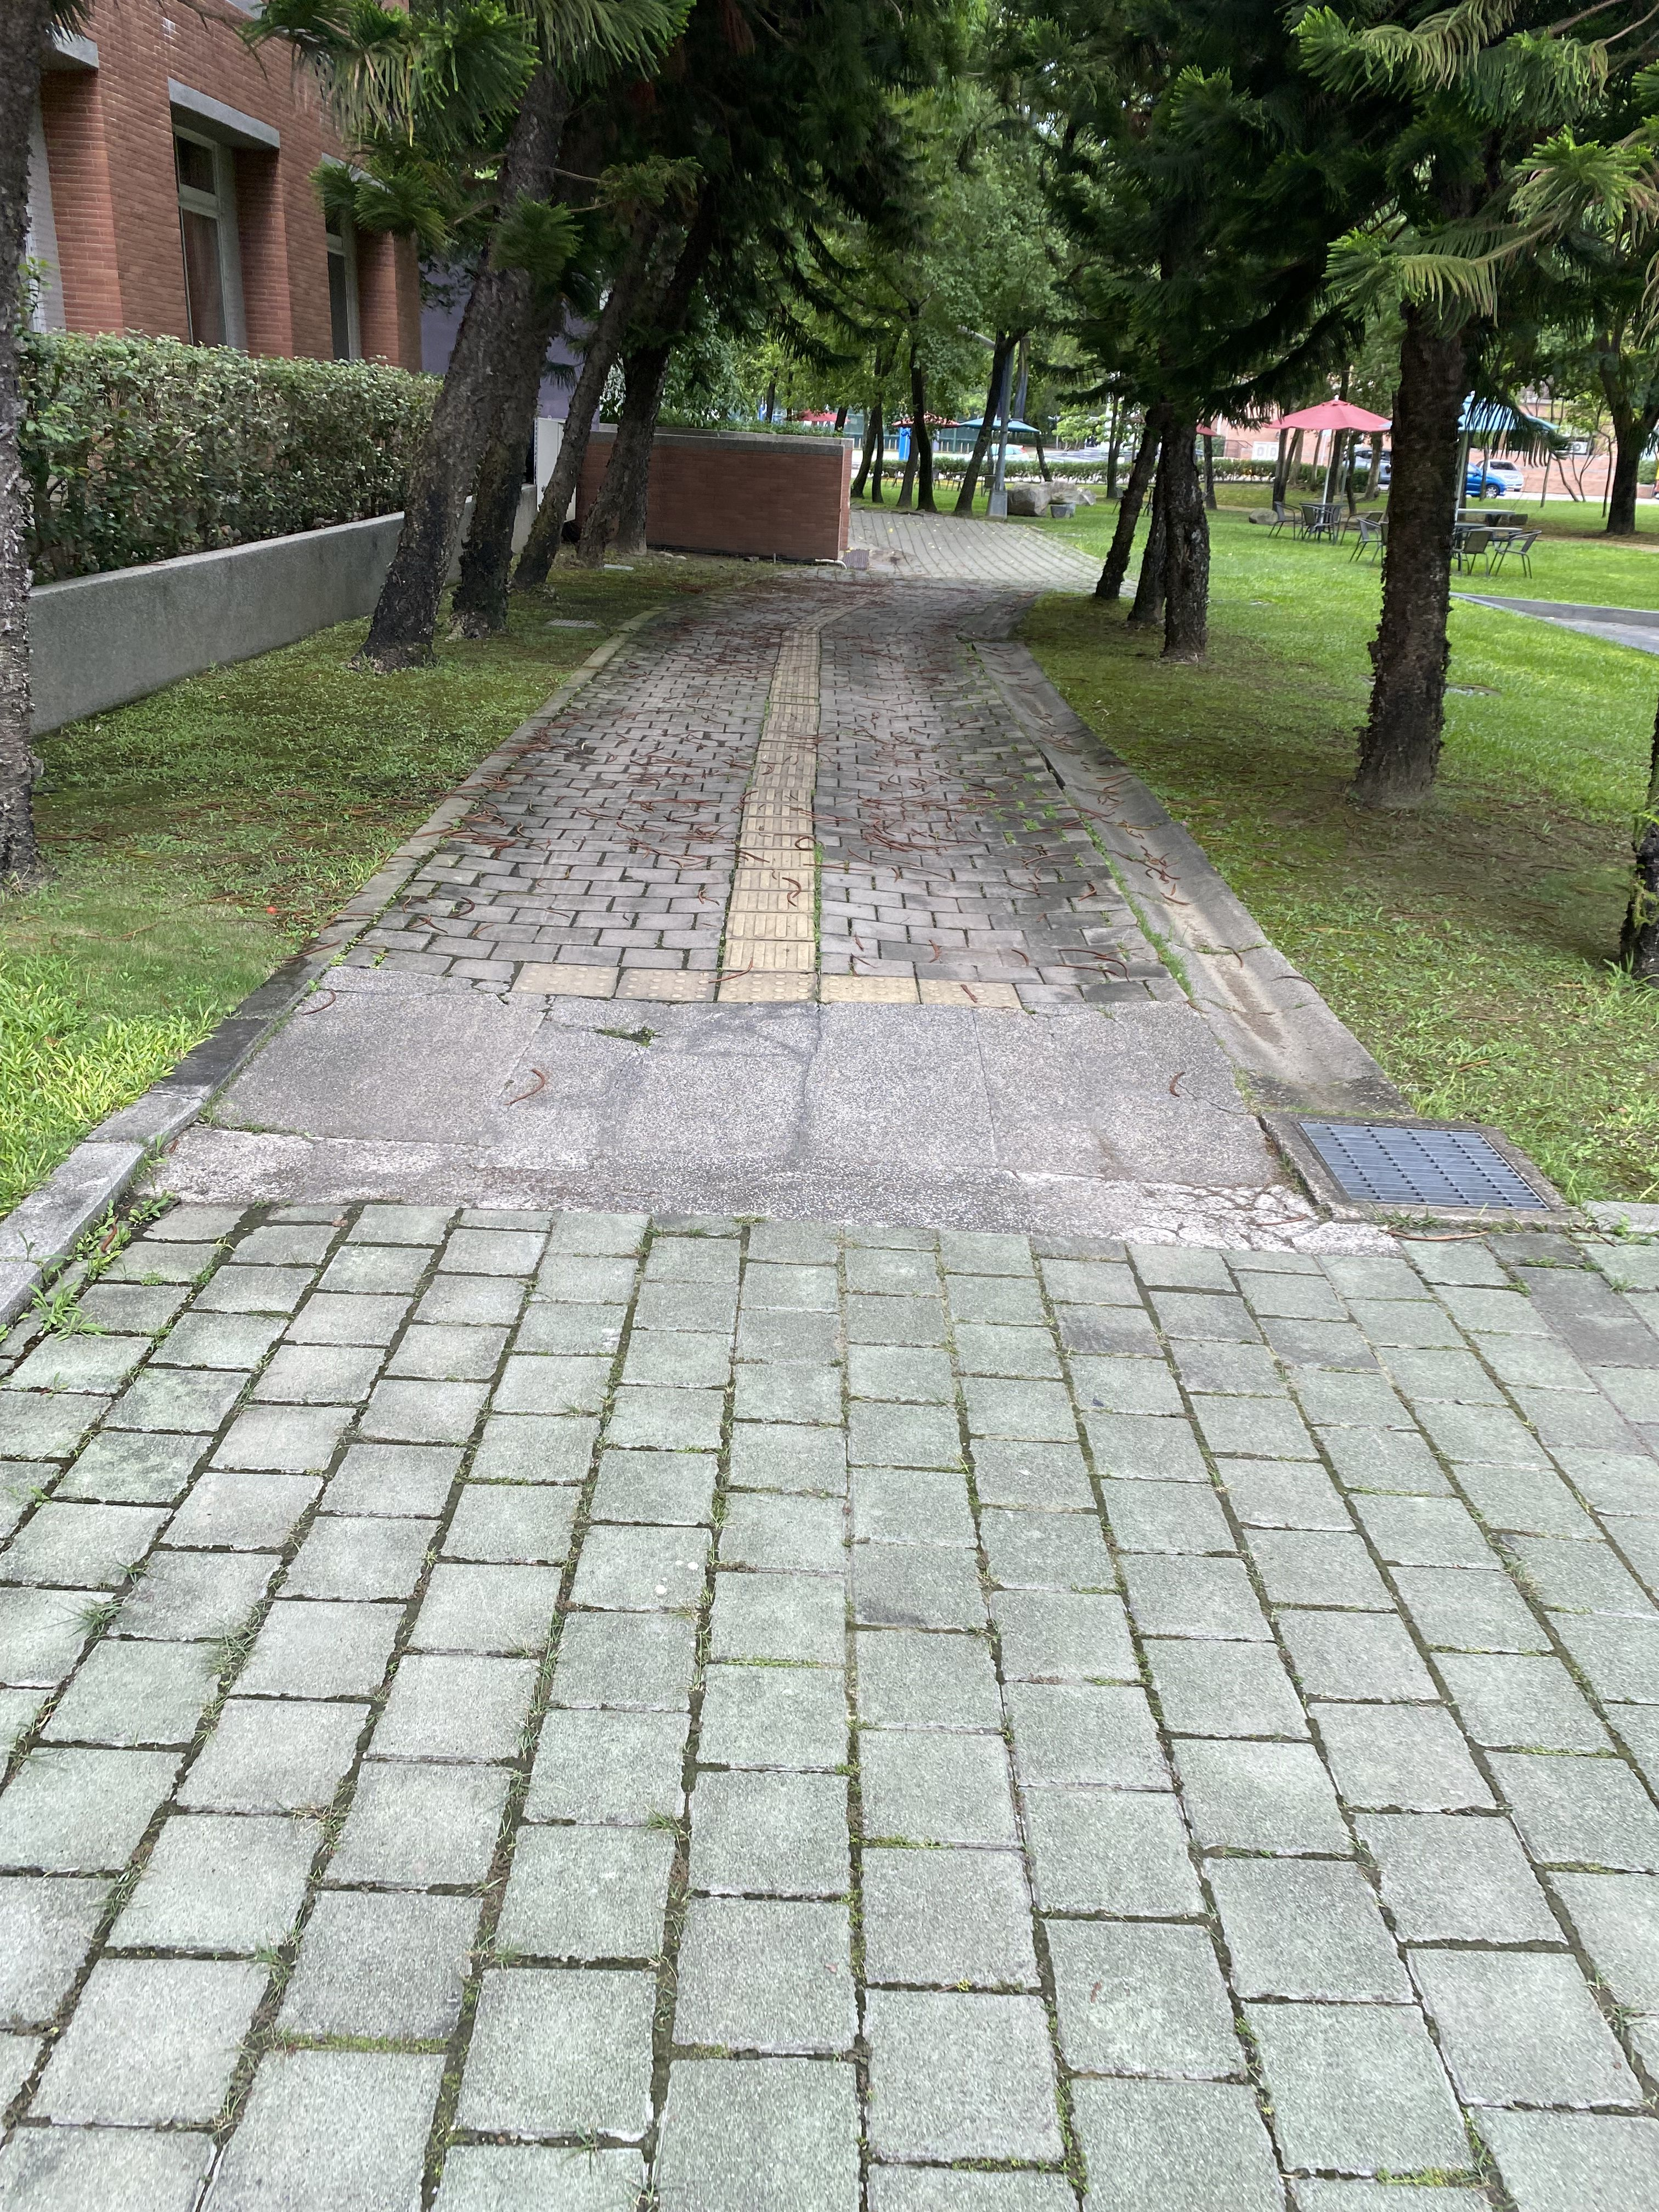sidewalk: (356, 460, 1324, 2205)
